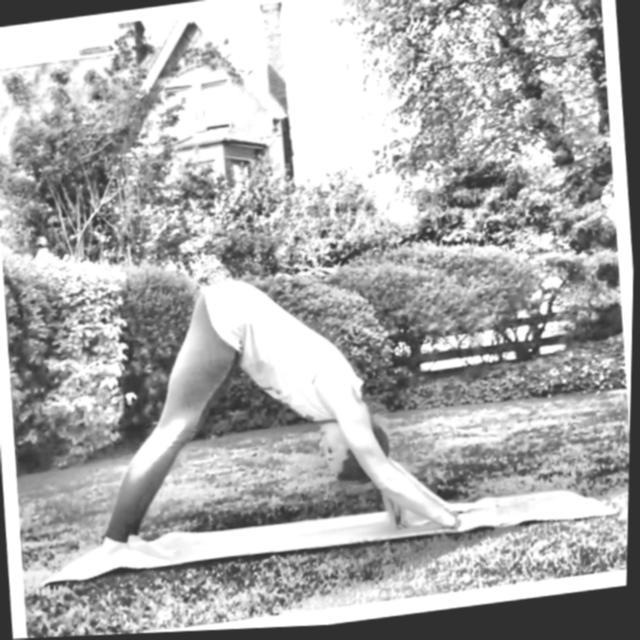Downward-Facing_Dog: (82, 266, 478, 576)
